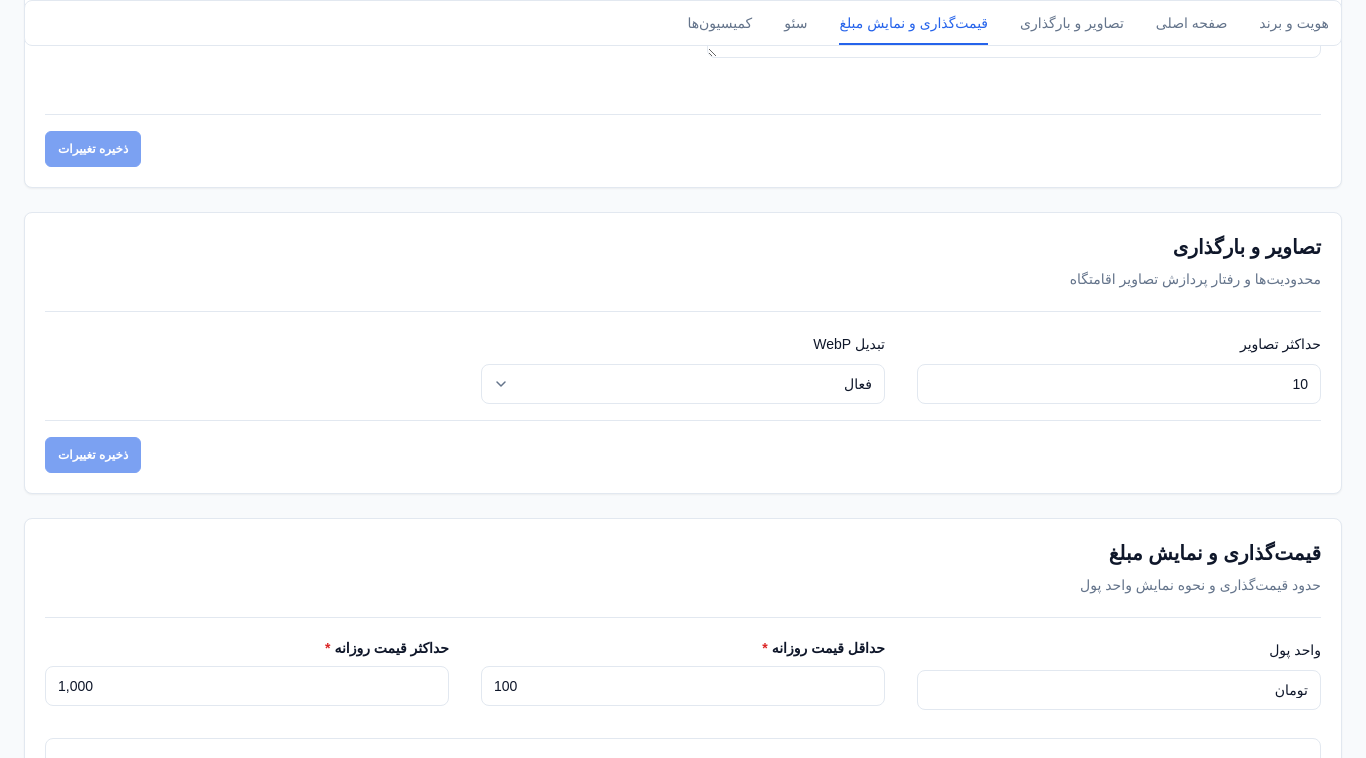
Admin Site Settings generic dirty state › uses numeric equivalence while keeping invalid drafts disabled
(page scrolled)
Expected: the element labelled "حداکثر تصاویر" is shown, 24,212 -> 1342,494
Replace the text in the number field labelled "حداکثر تصاویر" with "10.0". click: (1119, 384)
box: 917,364 -> 1321,404
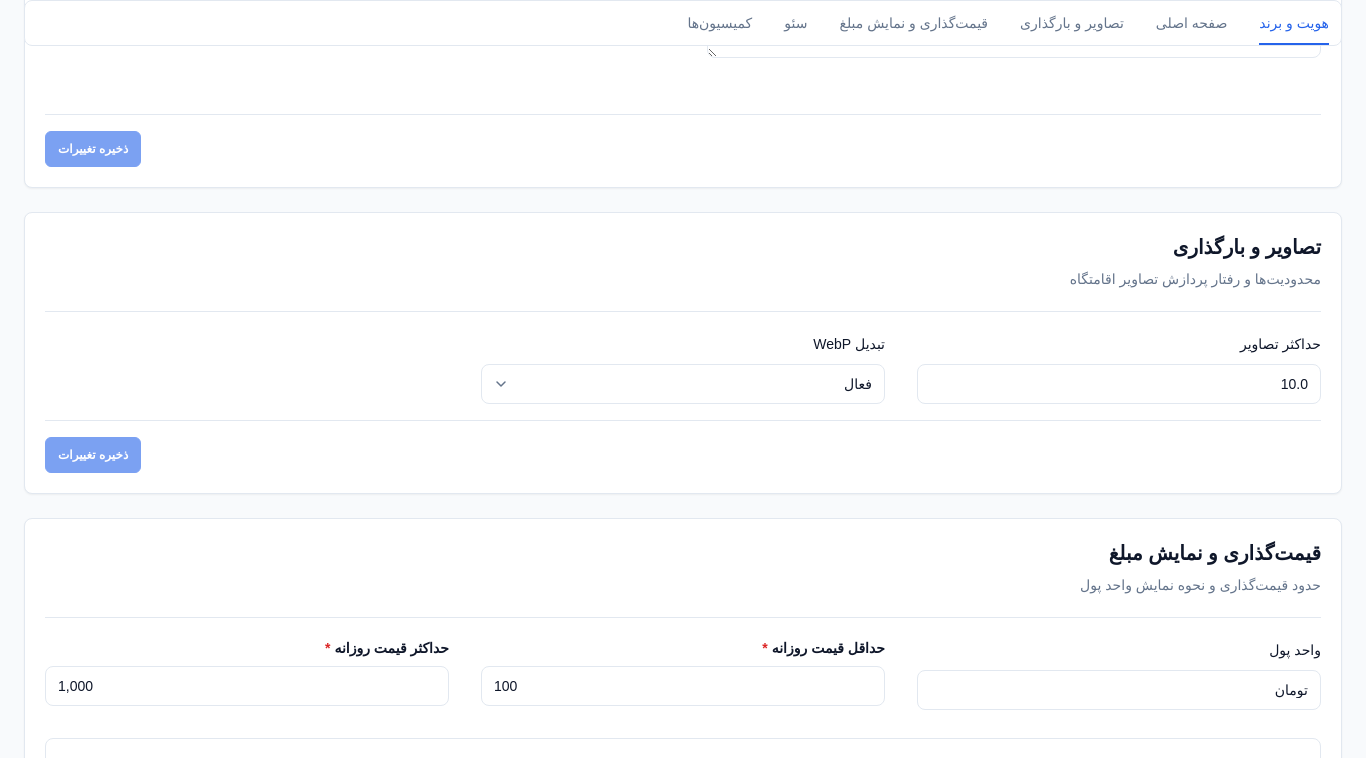
Expected: the 2nd button "ذخیره تغییرات" is disabled, 45,437 -> 141,473
Replace the text in the number field labelled "حداکثر تصاویر" with "10.5". click: (1119, 384)
box: 917,364 -> 1321,404
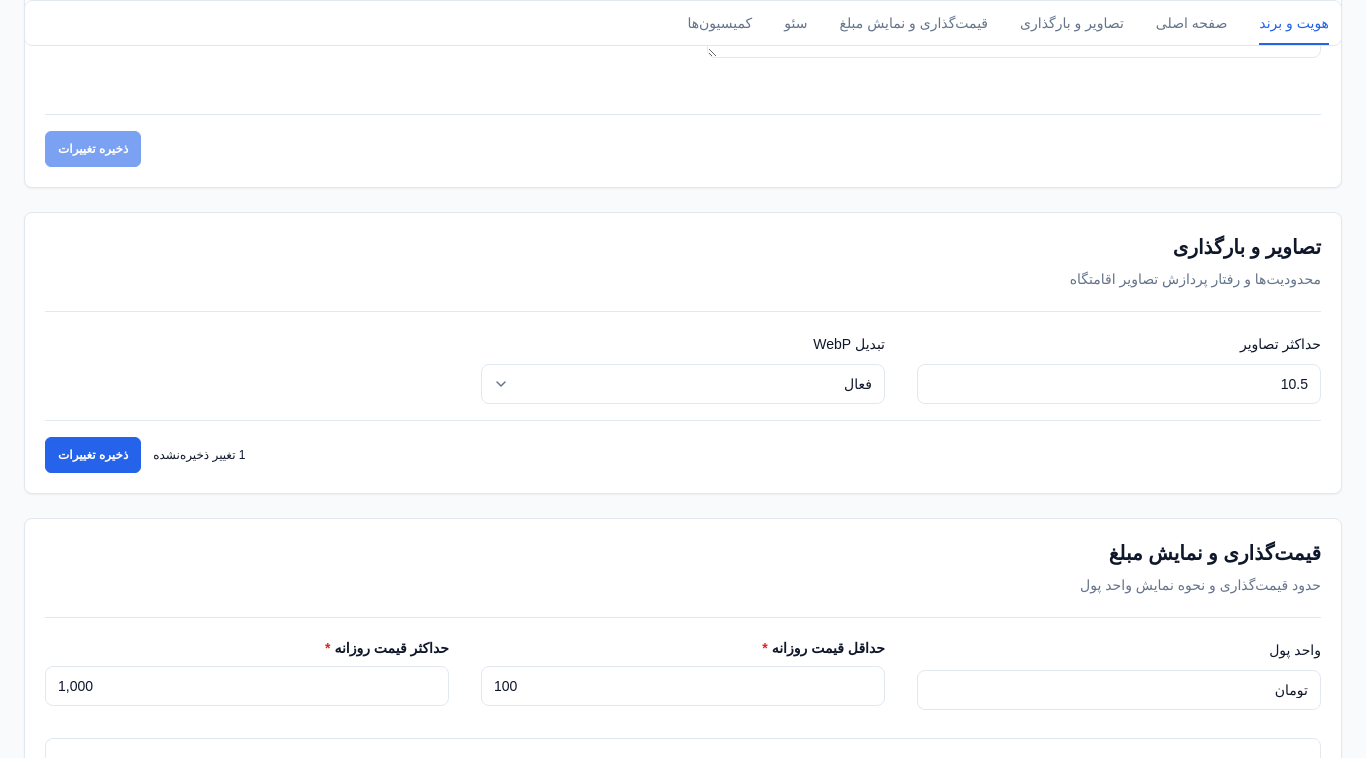
Expected: the button "ذخیره تغییرات" next to "1 تغییر ذخیره‌نشده" is enabled, 45,437 -> 141,473
Replace the text in the number field labelled "حداکثر تصاویر" with "0". click: (1119, 384)
box: 917,364 -> 1321,404
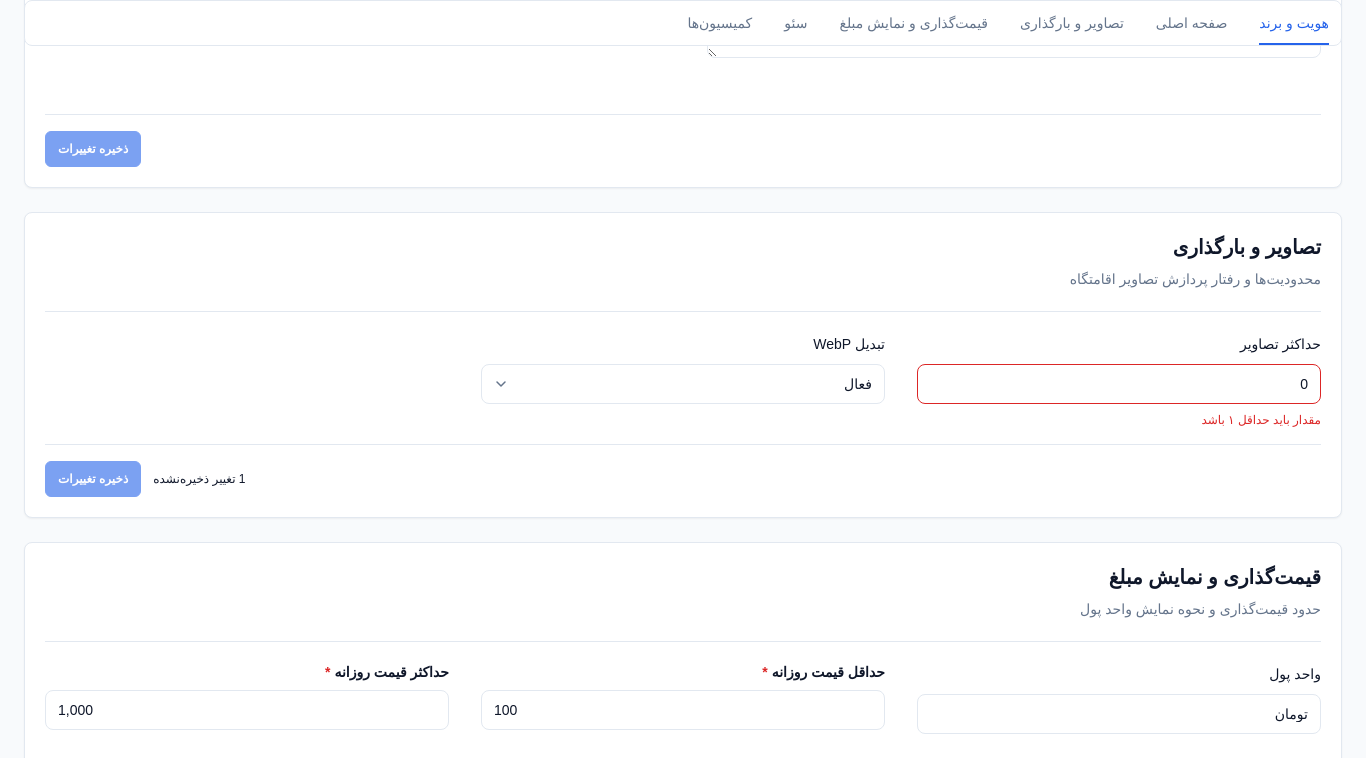
Expected: the button "ذخیره تغییرات" next to "1 تغییر ذخیره‌نشده" is disabled, 45,461 -> 141,497
Replace the text in the number field labelled "حداکثر تصاویر" with "12". click: (1119, 384)
box: 917,364 -> 1321,404
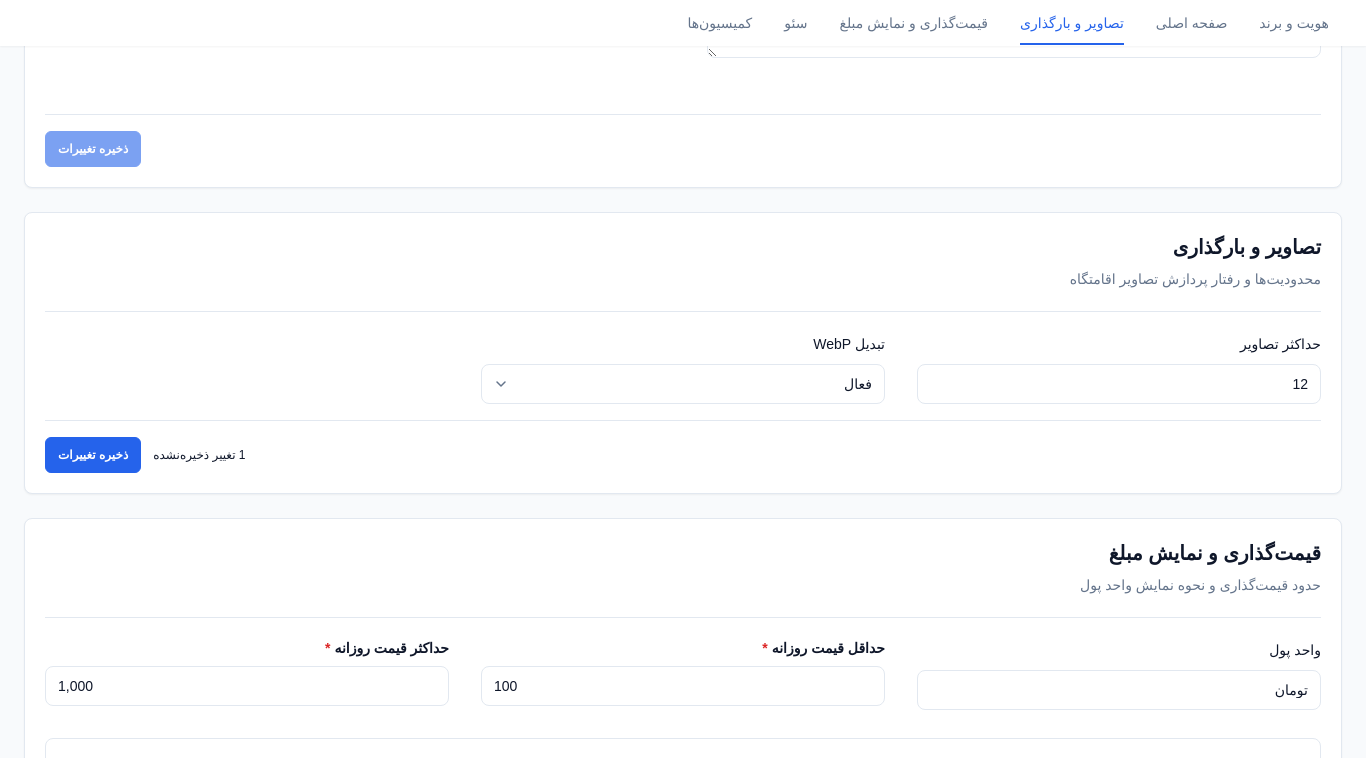
Expected: the button "ذخیره تغییرات" next to "1 تغییر ذخیره‌نشده" is enabled, 45,437 -> 141,473
